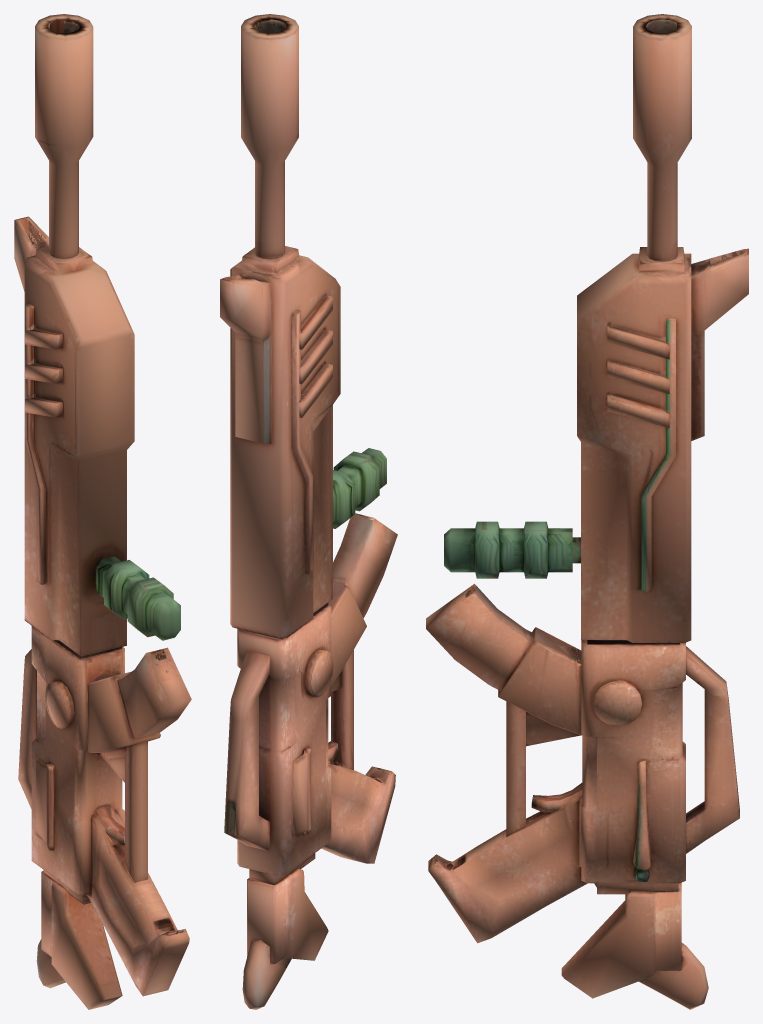
File: Rifle_Desert.fbx
3 views of the same model, side by side, from view 1: azimuth 30°, elevation 25°; view 2: azimuth 150°, elevation 25°; view 3: azimuth 270°, elevation 25° (orthographic).
Parts seen in each view (by area): view 1: Mesh_0; view 2: Mesh_0; view 3: Mesh_0.
Boxes of the visible parts, x1,y1,x2,y2 form: Mesh_0: (14, 14, 191, 1009); Mesh_0: (220, 14, 397, 1009); Mesh_0: (426, 14, 748, 1009).
Size of the model in its own units: 15.3 by 200 by 59.48.
Materials: 1 (1 with a texture image).
